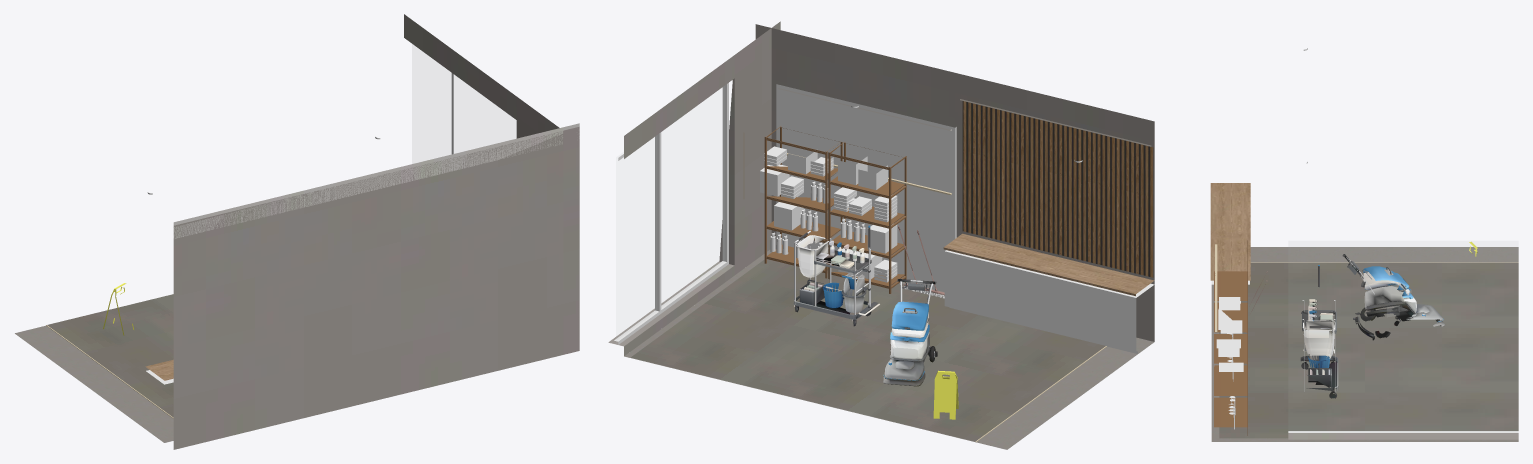
File: z-equipment-lite.full.91e8eaa5.glb
3 renders of one model, left to right at view 1: azimuth 30°, elevation 25°; view 2: azimuth 150°, elevation 25°; view 3: azimuth 270°, elevation 25°, orthographic. The views are drawn at different scales.
Parts seen in each view (by area): view 1: equipment_plaster, equipment_bay_floor, equipment_carpet; view 2: equipment_satin, equipment_bay_floor, equipment_plaster, equipment_proxy_slat, equipment_fx, equipment_steel_frame_shelves_01, equipment_carpet, equipment_oak, equipment_WetFloorSign_01, equipment_metal_satin, equipment_emit, equipment_metal_chrome; view 3: equipment_bay_floor, equipment_fx, equipment_carpet, equipment_steel_frame_shelves_01, equipment_oak, equipment_satin, equipment_plaster, equipment_metal_satin.
Part boxes in pixels (bbox=[...]): equipment_plaster: bbox=[173, 14, 579, 449]; equipment_bay_floor: bbox=[47, 294, 173, 417]; equipment_carpet: bbox=[15, 325, 173, 442]; equipment_satin: bbox=[614, 83, 1154, 353]; equipment_bay_floor: bbox=[631, 259, 1105, 441]; equipment_plaster: bbox=[608, 21, 1154, 355]; equipment_proxy_slat: bbox=[962, 101, 1153, 277]; equipment_fx: bbox=[793, 225, 937, 386]; equipment_steel_frame_shelves_01: bbox=[764, 126, 906, 293]; equipment_carpet: bbox=[624, 250, 1154, 449]; equipment_oak: bbox=[943, 233, 1154, 296]; equipment_WetFloorSign_01: bbox=[933, 370, 958, 419]; equipment_metal_satin: bbox=[743, 132, 1106, 441]; equipment_emit: bbox=[778, 88, 1151, 146]; equipment_metal_chrome: bbox=[794, 230, 870, 314]; equipment_bay_floor: bbox=[1219, 263, 1518, 438]; equipment_fx: bbox=[1300, 254, 1444, 398]; equipment_carpet: bbox=[1211, 247, 1518, 441]; equipment_steel_frame_shelves_01: bbox=[1214, 240, 1247, 435]; equipment_oak: bbox=[1210, 183, 1250, 280]; equipment_satin: bbox=[1211, 48, 1518, 432]; equipment_plaster: bbox=[1288, 433, 1518, 439]; equipment_metal_satin: bbox=[1215, 244, 1518, 357].
Size of the model in its own units: 6.25 by 3.35 by 4.25.
14 materials, 6 textured.
